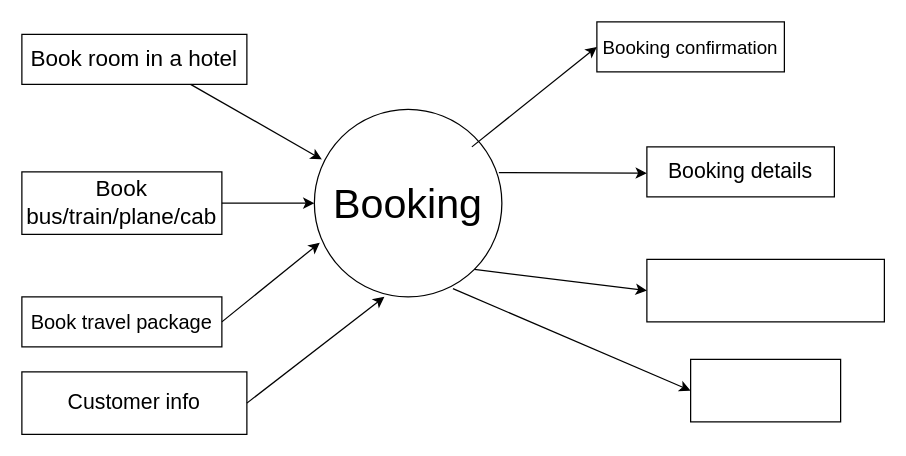
Image size: 906x456. Some labels were removed from this diagram. The shapes that lost their labels are listed below. From the top down, each one's centre as x and y in pixels, then its label:
At (765,290): "Payment Details".
At (765,390): "Route Map".
